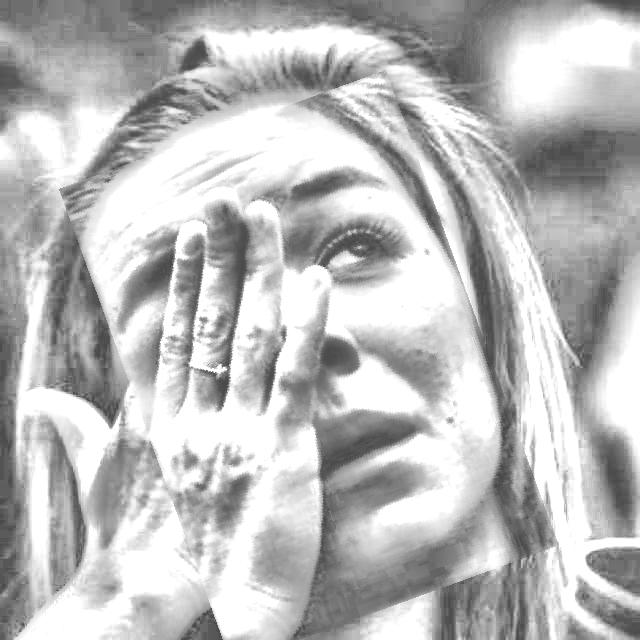sad: (97, 91, 521, 640)
